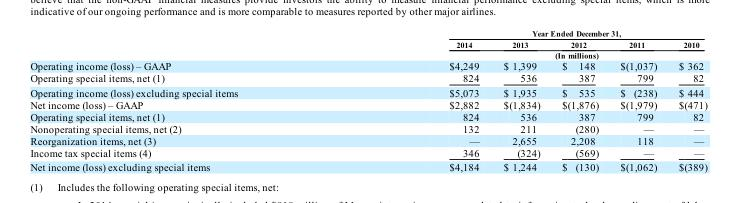table: (29, 28, 706, 172)
table column: (29, 28, 342, 172), (342, 28, 490, 172), (490, 28, 550, 172), (608, 28, 667, 172), (550, 28, 608, 172), (667, 28, 706, 172)
table column header: (29, 28, 706, 59)
table row: (29, 84, 706, 98), (29, 71, 706, 84), (29, 146, 706, 159), (29, 159, 706, 172), (29, 59, 706, 71), (29, 98, 706, 110), (29, 110, 706, 122), (29, 122, 706, 134), (29, 134, 706, 146), (29, 38, 706, 49), (29, 28, 706, 38), (29, 49, 706, 59)
table spanning cell: (342, 28, 706, 38), (342, 49, 706, 59)
